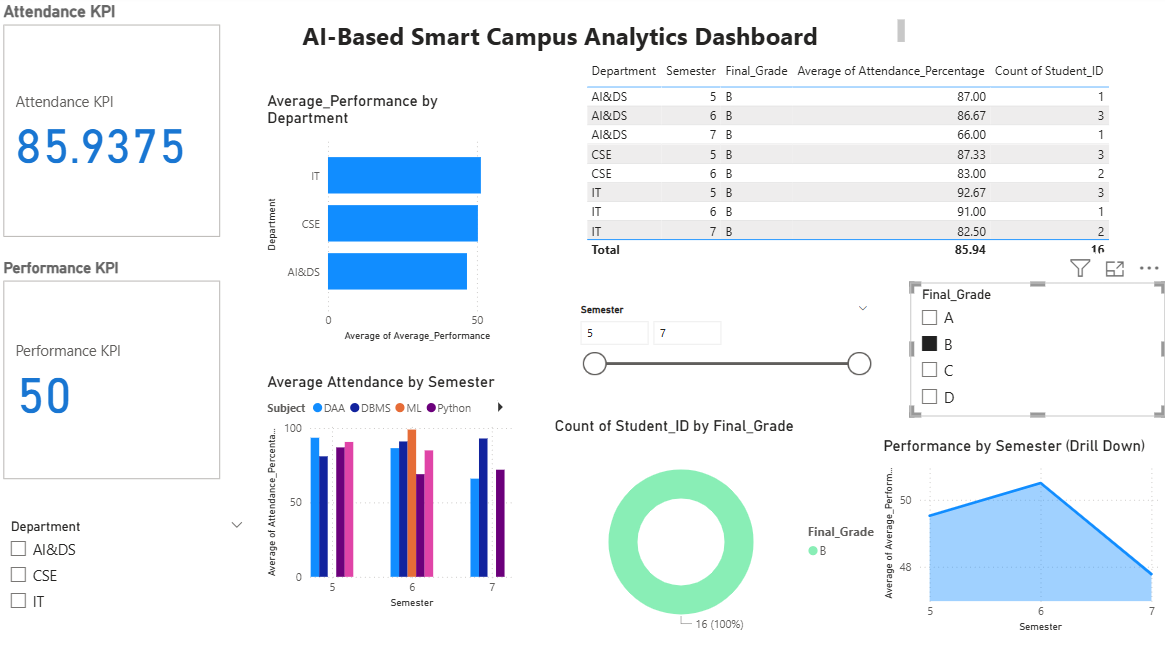

This screenshot's page, from the dashboard's own definition file:
{"tool":"powerbi","page":{"name":"Page 1","canvas":[1280,720],"ordinal":0},"visuals":[{"type":"cardVisual","title":"Attendance KPI","fields":{"Data":["Avg(5 student_performance.Attendance_Percentage)"]},"box":[0,7.1,248.6,264.3],"z":0},{"type":"cardVisual","title":"Performance KPI","fields":{"Data":["Avg(5 student_performance.Average_Performance)"]},"box":[0,290,248,248],"z":1000},{"type":"slicer","fields":{"Values":["5 student_performance.Department"]},"box":[0,570,280,150],"z":2000},{"type":"slicer","fields":{"Values":["5 student_performance.Semester"]},"box":[625.7,332.9,340,104.3],"z":3000},{"type":"clusteredBarChart","title":"Average_Performance by Department","fields":{"Category":["5 student_performance.Department"],"Y":["Avg(5 student_performance.Average_Performance)"]},"box":[290,105.7,280,280],"z":4000},{"type":"clusteredColumnChart","title":"Average Attendance by Semester","fields":{"Category":["5 student_performance.Semester"],"Y":["Avg(5 student_performance.Attendance_Percentage)"],"Series":["5 student_performance.Subject"]},"box":[290,414.3,280,264.3],"z":5000},{"type":"tableEx","fields":{"Values":["5 student_performance.Department","5 student_performance.Semester","5 student_performance.Final_Grade","Avg(5 student_performance.Attendance_Percentage)","CountNonNull(5 student_performance.Student_ID)"]},"box":[640,67.1,602.9,248.6],"z":6000},{"type":"donutChart","fields":{"Category":["5 student_performance.Final_Grade"],"Y":["CountNonNull(5 student_performance.Student_ID)"]},"box":[605.7,462.9,378.6,257.1],"z":7000},{"type":"slicer","fields":{"Values":["5 student_performance.Final_Grade"]},"box":[1000,315.7,280,147.1],"z":8000},{"type":"areaChart","title":"Performance by Semester (Drill Down)","fields":{"Category":["5 student_performance.Department","5 student_performance.Semester","5 student_performance.Student_ID"],"Y":["Avg(5 student_performance.Average_Performance)"]},"box":[965.7,484.3,314.3,220],"z":9000},{"type":"textbox","box":[328.6,21.4,671.4,45.7],"z":11000}]}

Visuals, with their boxes in screenshot pixels (x1, y1, x2, y2), scaled from the page's 1280x720 canvas onto the 1165x647 screenshot:
"Attendance KPI" cardVisual: {"x1": 0, "y1": 6, "x2": 226, "y2": 244}
"Performance KPI" cardVisual: {"x1": 0, "y1": 261, "x2": 226, "y2": 483}
slicer - 5 student_performance.Department: {"x1": 0, "y1": 512, "x2": 255, "y2": 646}
slicer - 5 student_performance.Semester: {"x1": 569, "y1": 299, "x2": 879, "y2": 393}
"Average_Performance by Department" clusteredBarChart: {"x1": 264, "y1": 95, "x2": 519, "y2": 347}
"Average Attendance by Semester" clusteredColumnChart: {"x1": 264, "y1": 372, "x2": 519, "y2": 610}
tableEx - 5 student_performance.Department x 5 student_performance.Semester: {"x1": 582, "y1": 60, "x2": 1131, "y2": 284}
donutChart - 5 student_performance.Final_Grade x CountNonNull(5 student_performance.Student_ID): {"x1": 551, "y1": 416, "x2": 896, "y2": 646}
slicer - 5 student_performance.Final_Grade: {"x1": 910, "y1": 284, "x2": 1164, "y2": 416}
"Performance by Semester (Drill Down)" areaChart: {"x1": 879, "y1": 435, "x2": 1164, "y2": 633}
textbox: {"x1": 299, "y1": 19, "x2": 910, "y2": 60}
